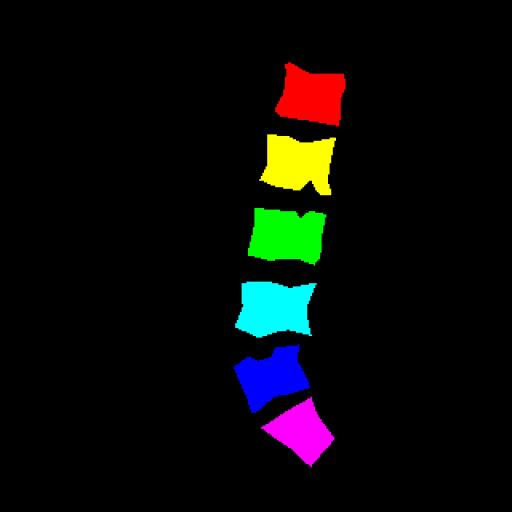L1: (275, 64, 344, 126)
L2: (260, 136, 336, 195)
L3: (248, 210, 324, 264)
L4: (235, 282, 316, 338)
L5: (234, 345, 309, 412)
S1: (262, 398, 334, 466)
